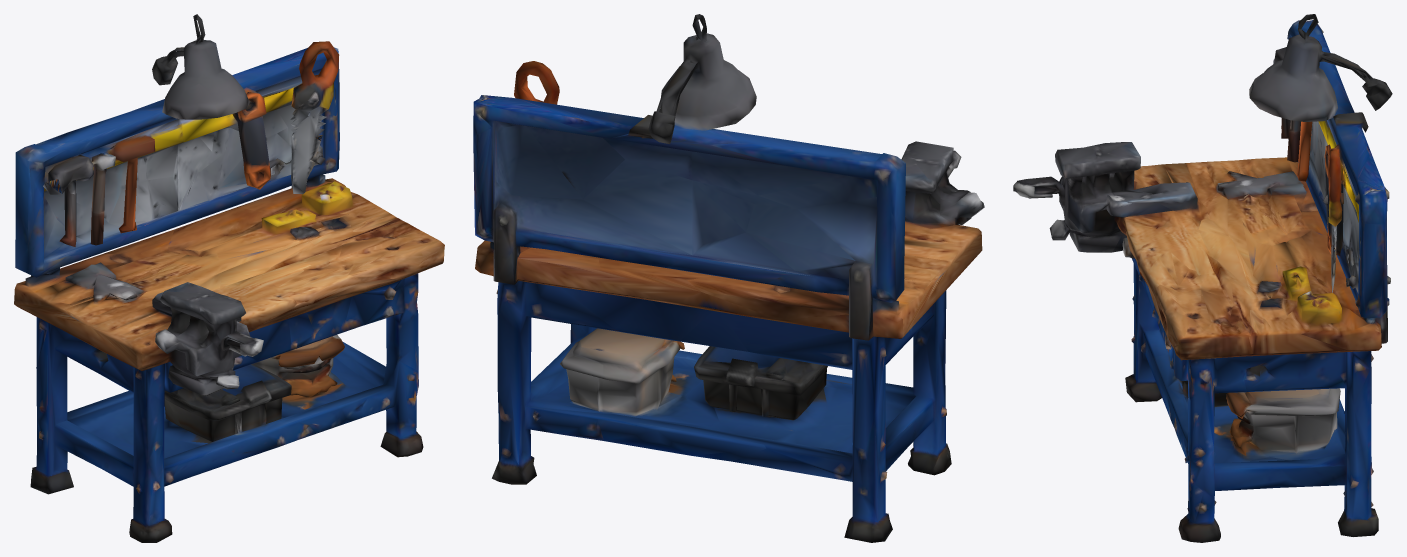
File: tezgah_lod1.glb
The picture shows the model from 3 angles, left to right: view 1: azimuth 30°, elevation 25°; view 2: azimuth 150°, elevation 25°; view 3: azimuth 270°, elevation 25°; orthographic projection. The views are drawn at different scales.
Visible parts, largest first — view 1: tezgah_lod1; view 2: tezgah_lod1; view 3: tezgah_lod1.
Boxes of the visible parts, x1=… form: tezgah_lod1: x1=14, y1=14, x2=444, y2=542; tezgah_lod1: x1=473, y1=14, x2=984, y2=542; tezgah_lod1: x1=1013, y1=14, x2=1392, y2=542.
Size of the model in its own units: 1.34 by 1.5 by 1.16.
1 material, 1 textured.
